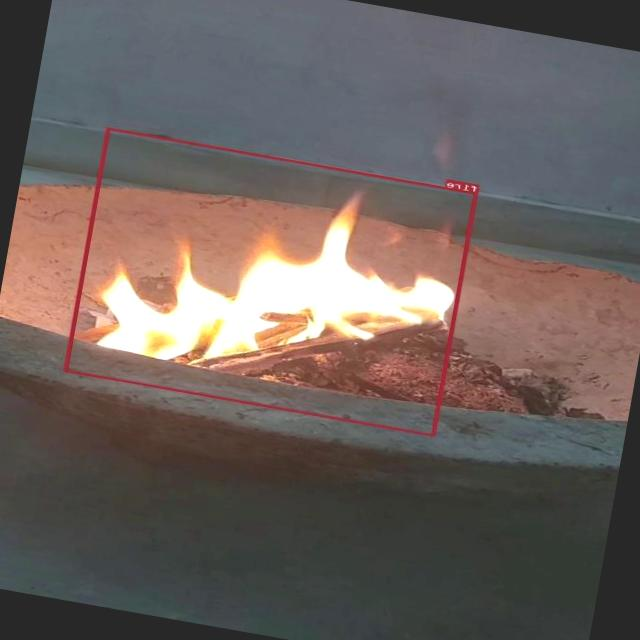fire: (64, 126, 478, 436)
